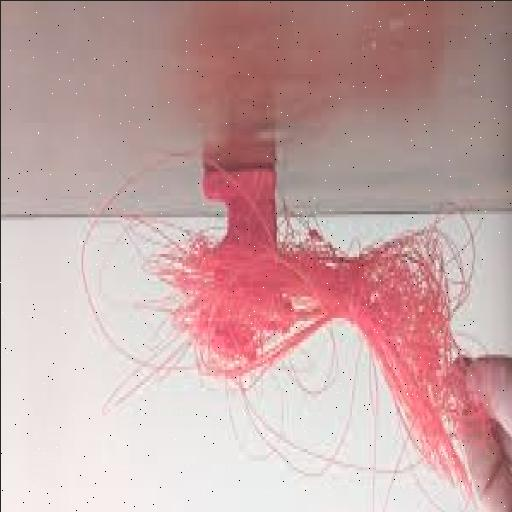spaghetti: (128, 240, 460, 464)
